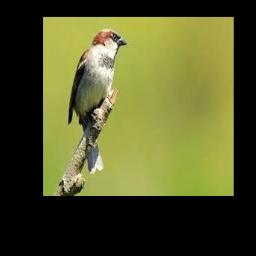Sparrow: (67, 29, 127, 173)
